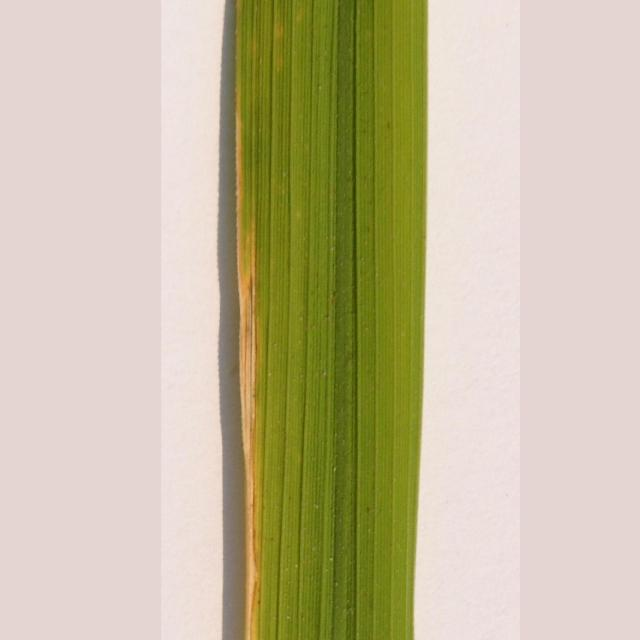leaf blight: (217, 111, 273, 640)
